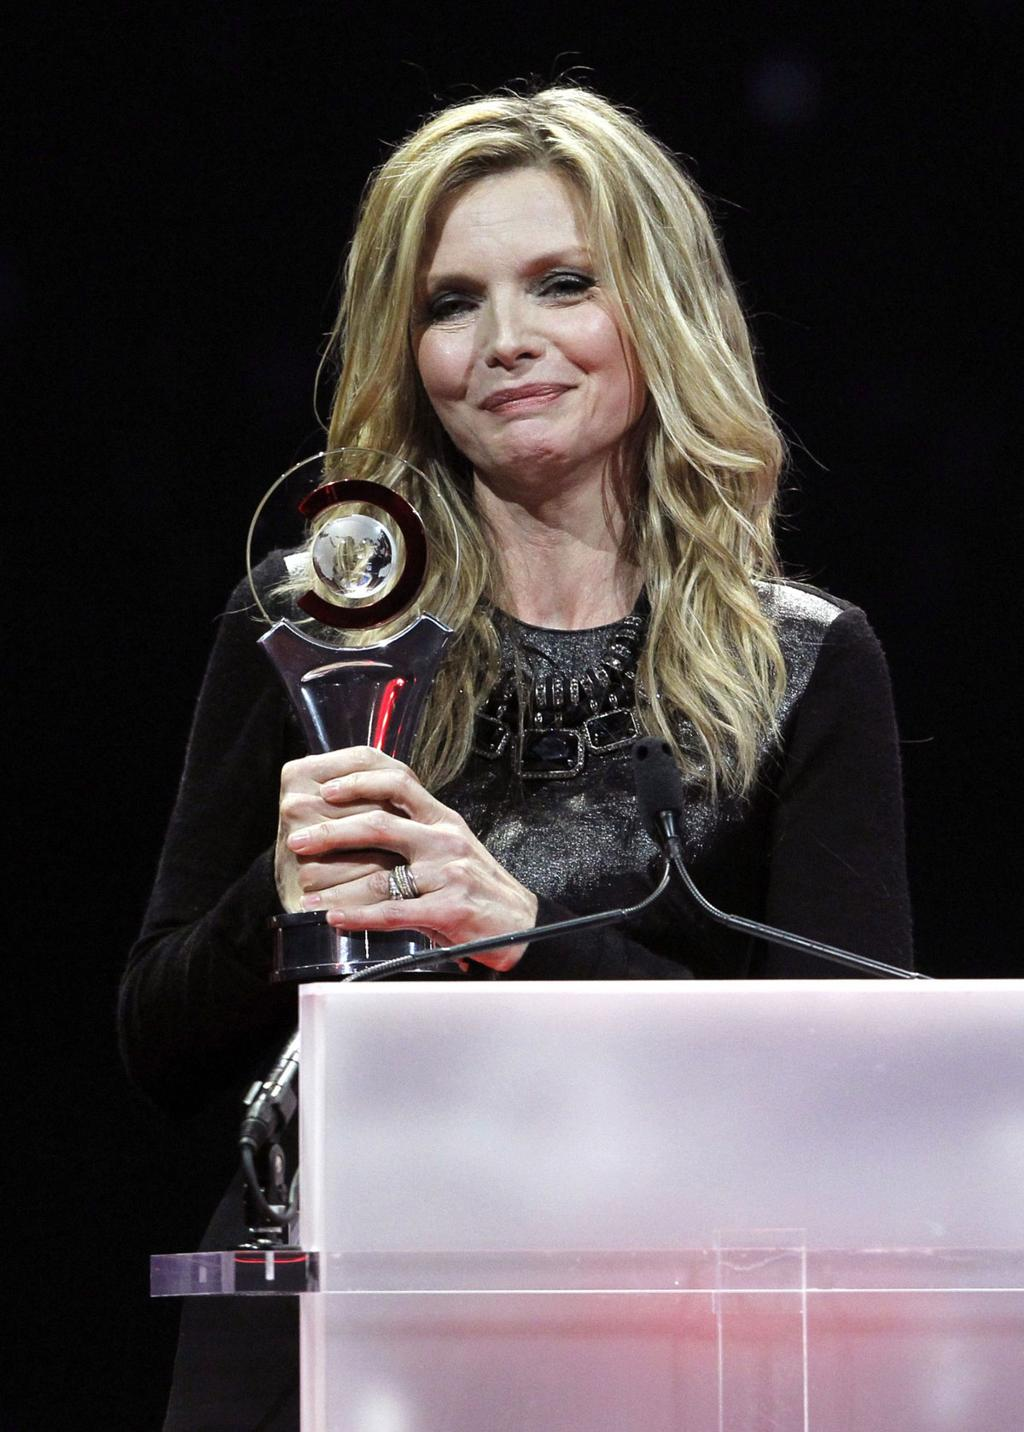face: (406, 157, 644, 462)
